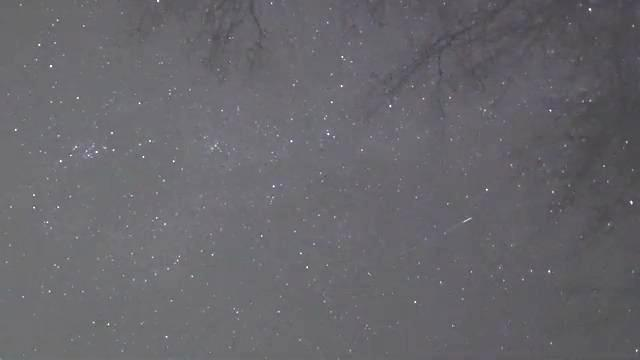meteorite: (437, 214, 488, 229)
